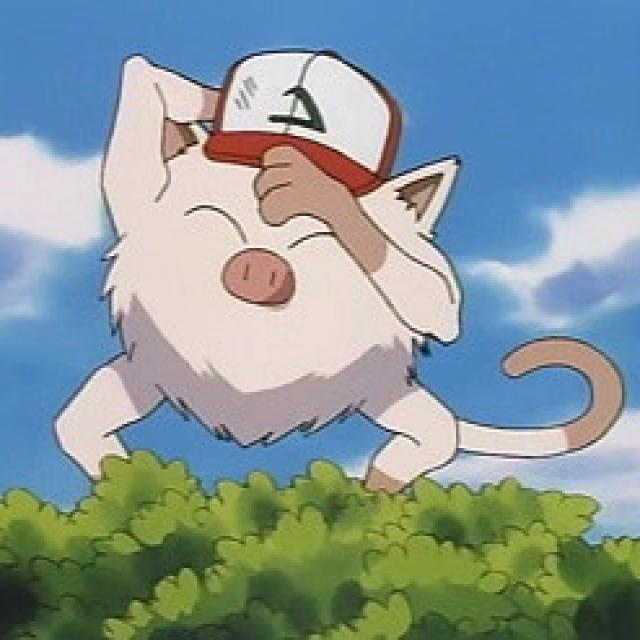Mankey: (96, 50, 472, 509)
